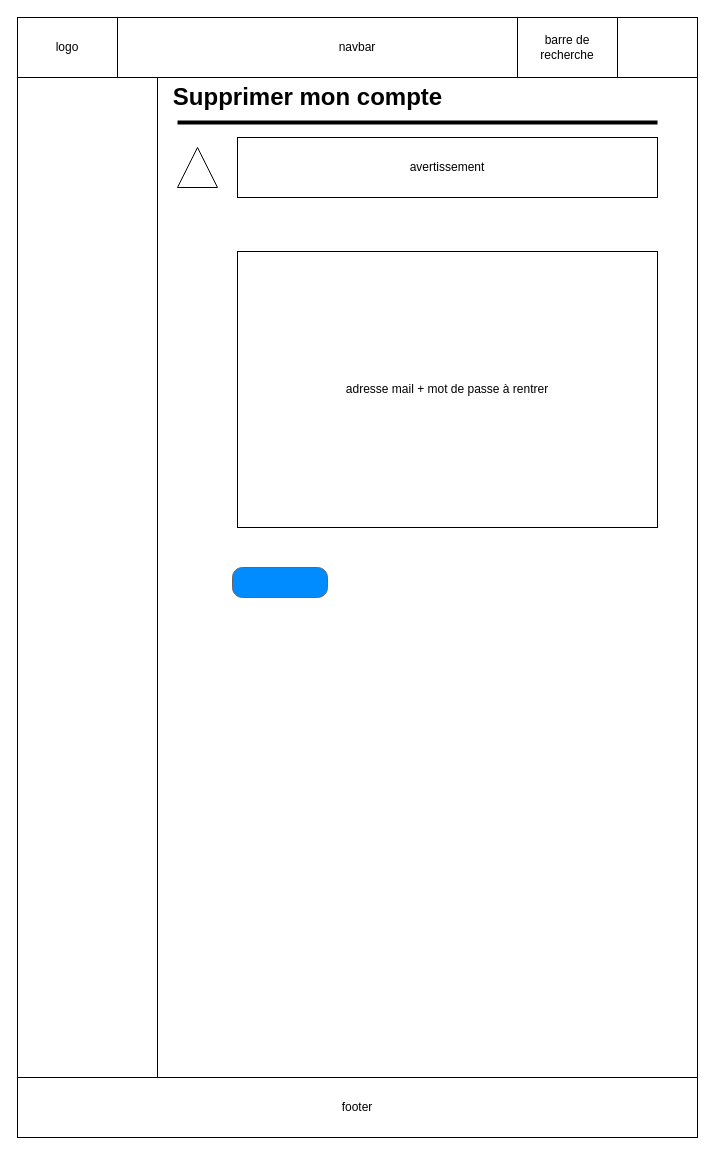
Some shapes in this 715 by 1155 pixel diagram are drawn without their labels. Each missing label, with the centre of its shape:
bouton: point 657,47
sidebar: point 87,577
supprimer: point 280,582
